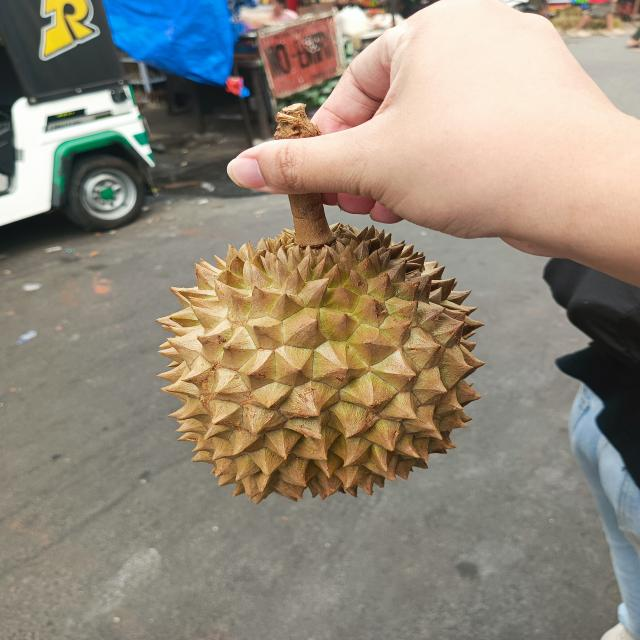mature: (162, 193, 483, 504)
